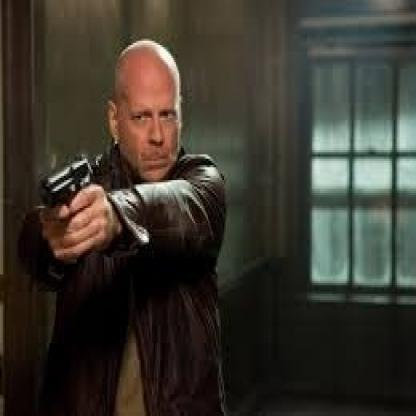Pistol: (37, 148, 96, 210)
